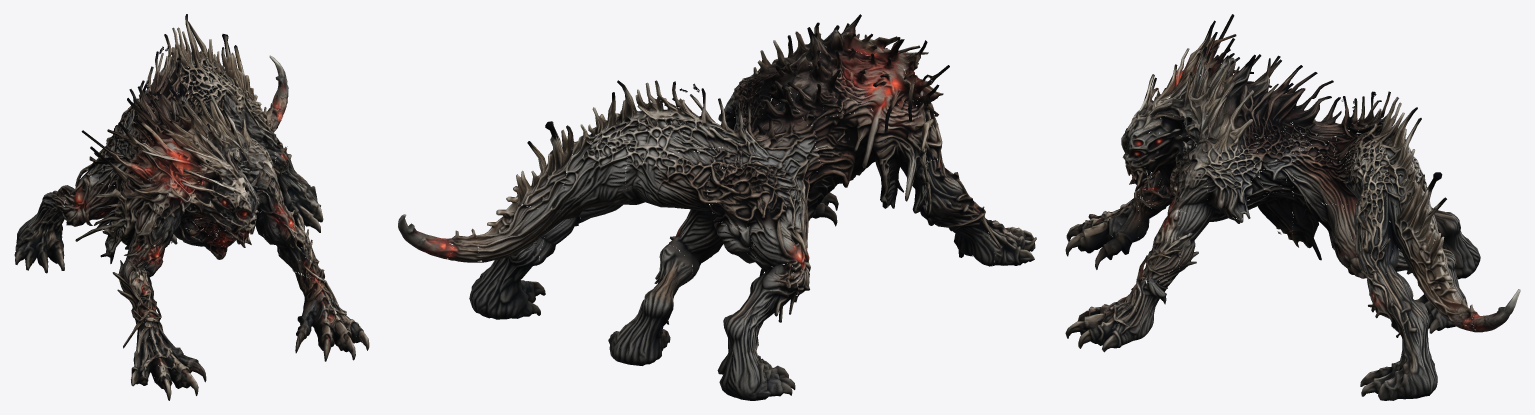
Rendered from hb_morbus.glb.
3 renders of one model, left to right at view 1: azimuth 30°, elevation 25°; view 2: azimuth 150°, elevation 25°; view 3: azimuth 270°, elevation 25°, orthographic. The views are drawn at different scales.
Parts seen in each view (by area): view 1: world; view 2: world; view 3: world.
Boxes of the visible parts, x1,y1,x2,y2 form: world: (14, 14, 369, 400); world: (398, 14, 1036, 400); world: (1065, 14, 1520, 400).
Size of the model in its own units: 0.9184 by 0.5938 by 1.
Materials: 1 (1 with a texture image).
